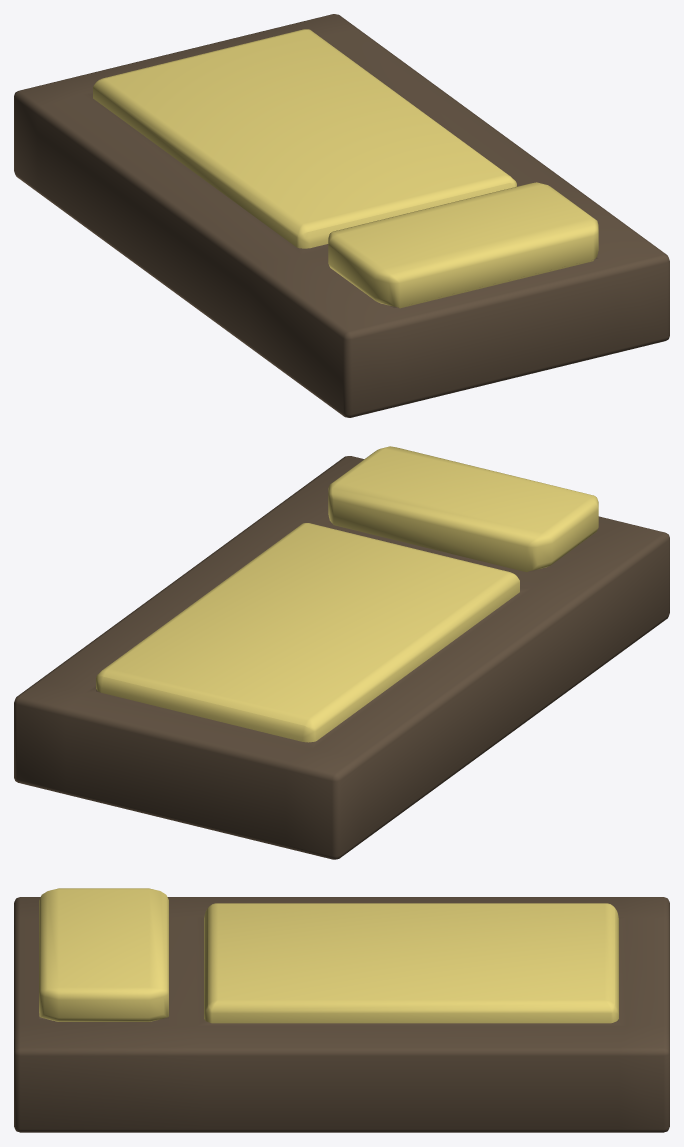
Rendered from Bett.fbx.
3 renders of one model, top to bottom at view 1: azimuth 30°, elevation 25°; view 2: azimuth 150°, elevation 25°; view 3: azimuth 270°, elevation 25°, orthographic. The views are drawn at different scales.
Visible parts, largest first — view 1: Bett; view 2: Bett; view 3: Bett.
Boxes of the visible parts, x1,y1,x2,y2 form: Bett: (14, 14, 669, 417); Bett: (14, 446, 669, 859); Bett: (14, 888, 669, 1132).
Bounding box in the file's own units: 1.78 × 0.6327 × 3.17.
